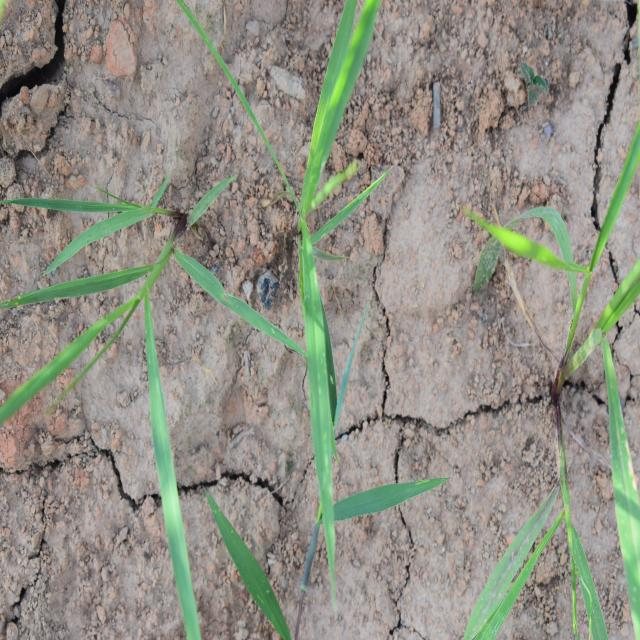green_foxtail: (29, 156, 230, 571), (259, 30, 411, 532), (488, 130, 632, 619)
